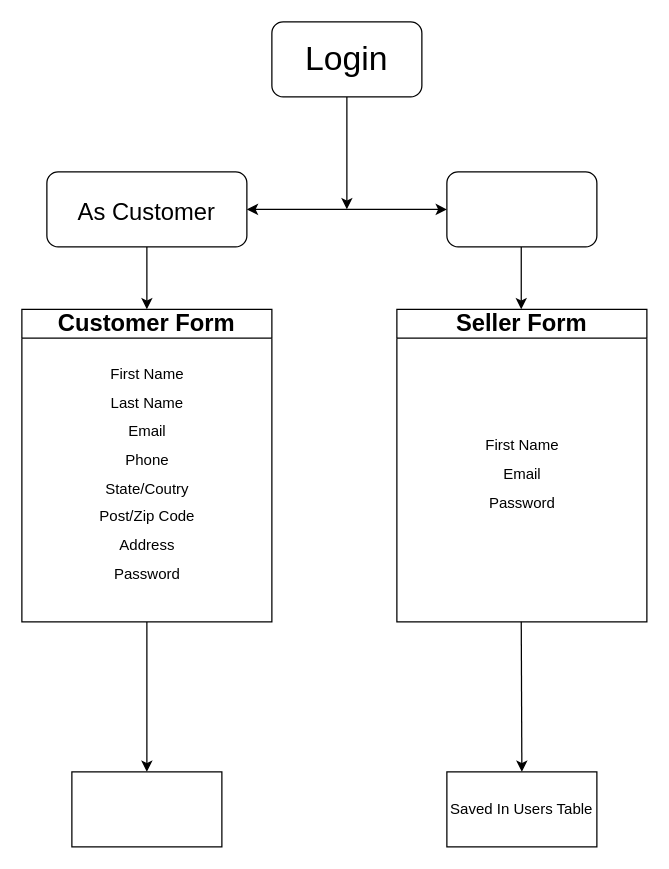
This 669x869 diagram has some shape labels left out. The centre of each missing label's shape, as x and y in pixels:
"As Seller" goes at point 521,209.
"Saved In Customer Table" goes at point 146,809.
